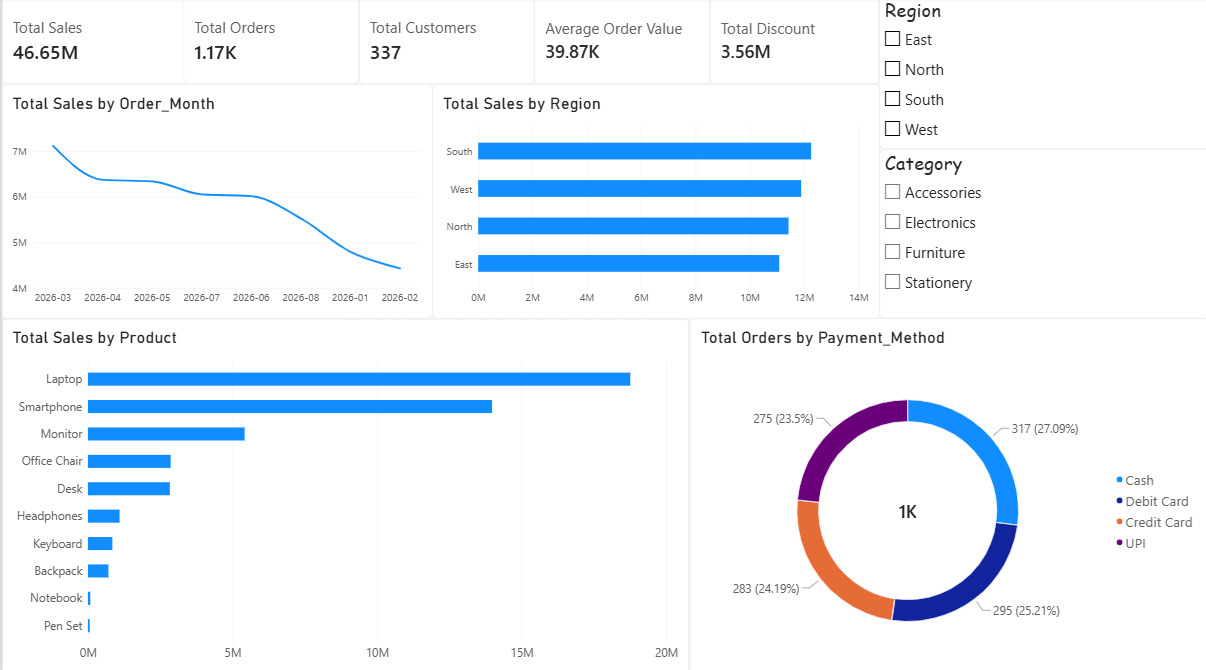

The page's visual inventory and layout, read from the dashboard file:
{"tool":"powerbi","page":{"name":"Automated Business Reporting Dashboard","canvas":[1920,1080],"ordinal":0},"visuals":[{"type":"cardVisual","fields":{"Data":["automated_reporting sales.Total Sales"]},"box":[0,0,291.1,140.8],"z":0},{"type":"cardVisual","fields":{"Data":["automated_reporting sales.Total Customers"]},"box":[567.8,0,279.2,140.8],"z":1000},{"type":"cardVisual","fields":{"Data":["automated_reporting sales.Total Orders"]},"box":[288.7,0,279.2,140.8],"z":2000},{"type":"cardVisual","fields":{"Data":["automated_reporting sales.Average Order Value"]},"box":[847,0,279.2,140.8],"z":3000},{"type":"lineChart","title":"Total Sales by Order_Month","fields":{"Category":["automated_reporting sales.Order_Month"],"Y":["automated_reporting sales.Total Sales"]},"box":[0,140.8,684.8,372.2],"z":4000},{"type":"clusteredBarChart","fields":{"Category":["automated_reporting sales.Region"],"Y":["automated_reporting sales.Total Sales"]},"box":[684.8,140.8,711,372.2],"z":5000},{"type":"clusteredBarChart","title":"Total Sales by Product","fields":{"Category":["automated_reporting sales.Product"],"Y":["automated_reporting sales.Total Sales"]},"box":[0,513,1092.7,567.8],"z":6000},{"type":"slicer","fields":{"Values":["automated_reporting sales.Region"]},"box":[1395.8,0,524.9,243.4],"z":7000},{"type":"cardVisual","fields":{"Data":["automated_reporting sales.Total Discount"]},"box":[1126.2,0,269.6,140.8],"z":8000},{"type":"donutChart","title":"Total Orders by Payment_Method","fields":{"Category":["automated_reporting sales.Payment_Method"],"Y":["automated_reporting sales.Total Orders"]},"box":[1095.1,513,825.5,567.8],"z":9000},{"type":"slicer","fields":{"Values":["automated_reporting sales.Category"]},"box":[1395.8,243.4,524.9,269.6],"z":10000}]}

Visuals, with their boxes in screenshot pixels (x1, y1, x2, y2), scaled from the page's 1920x1080 canvas onto the 1206x670 screenshot:
cardVisual - automated_reporting sales.Total Sales: 0/0/183/87
cardVisual - automated_reporting sales.Total Customers: 357/0/532/87
cardVisual - automated_reporting sales.Total Orders: 181/0/357/87
cardVisual - automated_reporting sales.Average Order Value: 532/0/707/87
"Total Sales by Order_Month" lineChart: 0/87/430/318
clusteredBarChart - automated_reporting sales.Region x automated_reporting sales.Total Sales: 430/87/877/318
"Total Sales by Product" clusteredBarChart: 0/318/686/669
slicer - automated_reporting sales.Region: 877/0/1205/151
cardVisual - automated_reporting sales.Total Discount: 707/0/877/87
"Total Orders by Payment_Method" donutChart: 688/318/1205/669
slicer - automated_reporting sales.Category: 877/151/1205/318
